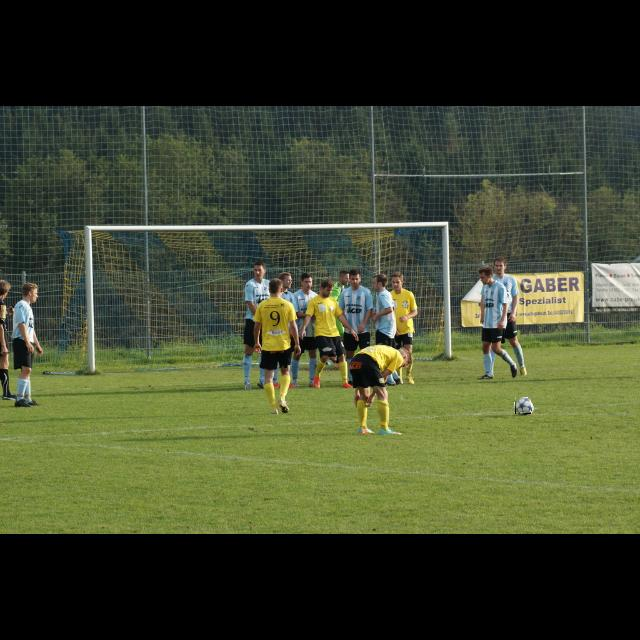Football: (515, 398, 531, 414)
